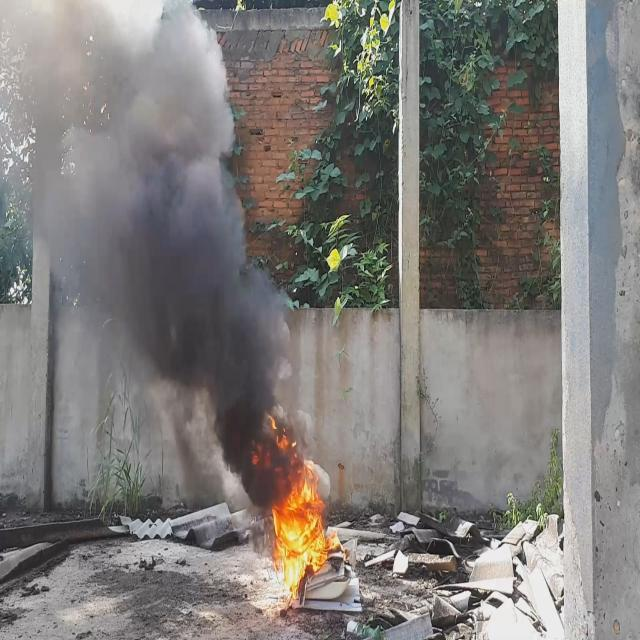Fire: (271, 460, 328, 592)
Smoke: (0, 0, 315, 506)
